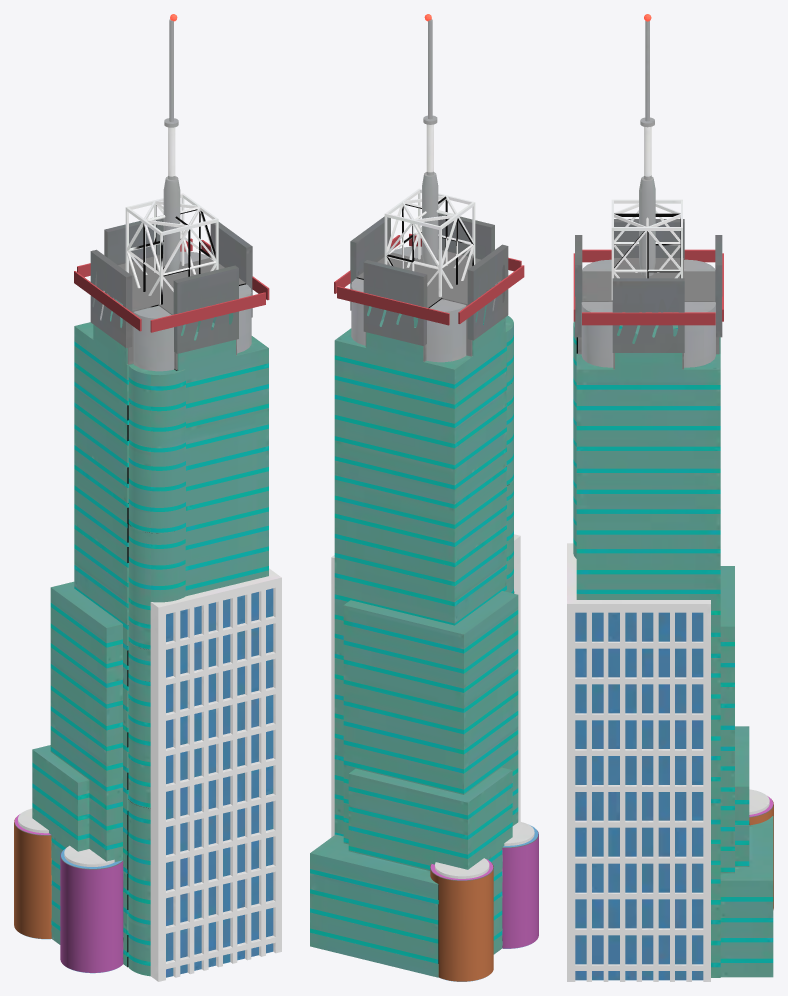
File: fourts2.glb
3 views of the same model, side by side, from view 1: azimuth 30°, elevation 25°; view 2: azimuth 150°, elevation 25°; view 3: azimuth 270°, elevation 25° (orthographic). The views are drawn at different scales.
Parts seen in each view (by area): view 1: Body, Accent; view 2: Body, Accent; view 3: Body, Accent.
Boxes of the visible parts, <box> form: Body: <box>14,19,281,981</box>; Accent: <box>14,238,269,973</box>; Body: <box>310,19,538,977</box>; Accent: <box>334,233,538,981</box>; Body: <box>567,21,773,981</box>; Accent: <box>573,249,773,909</box>.
Size of the model in its own units: 43.12 by 215 by 43.12.
Materials: 3 (1 with a texture image).
